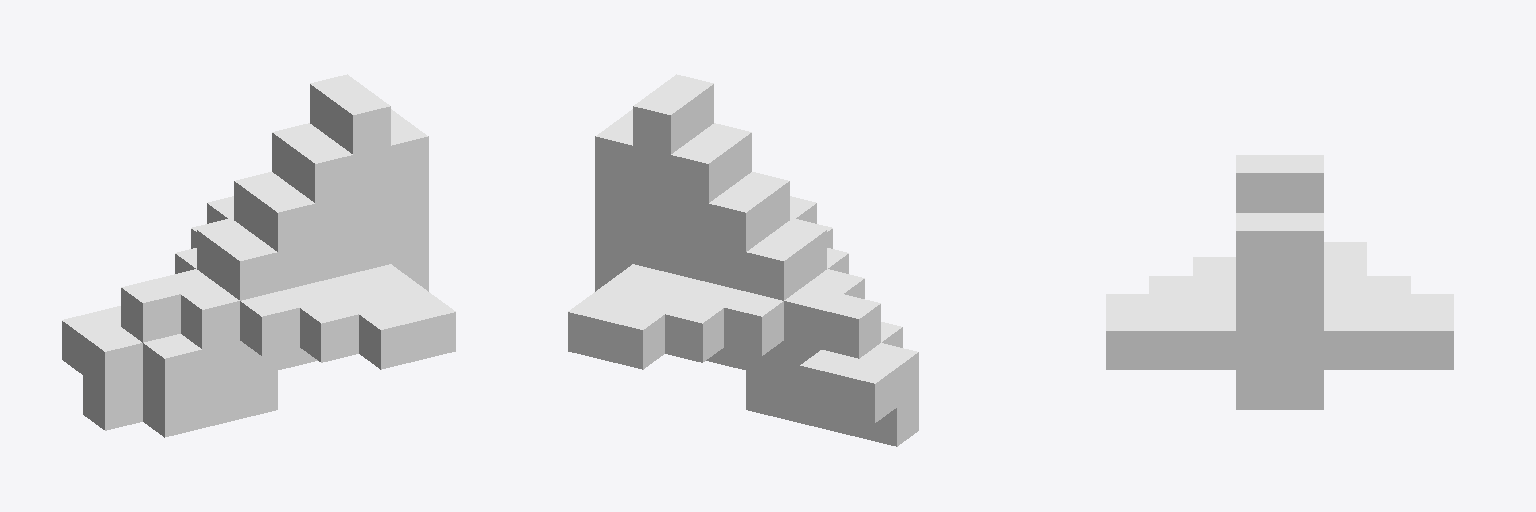
The model's file is AirplaneBodyBroken4.obj.
The picture shows the model from 3 angles: view 1: azimuth 30°, elevation 25°; view 2: azimuth 150°, elevation 25°; view 3: azimuth 270°, elevation 25°; orthographic projection.
Visible parts, largest first — view 1: object 1; view 2: object 1; view 3: object 1.
Boxes of the visible parts, x1=… form: object 1: x1=62, y1=74, x2=455, y2=437; object 1: x1=568, y1=74, x2=918, y2=446; object 1: x1=1106, y1=155, x2=1453, y2=409.
Bounding box in the file's own units: 0.8 × 0.7 × 0.8.